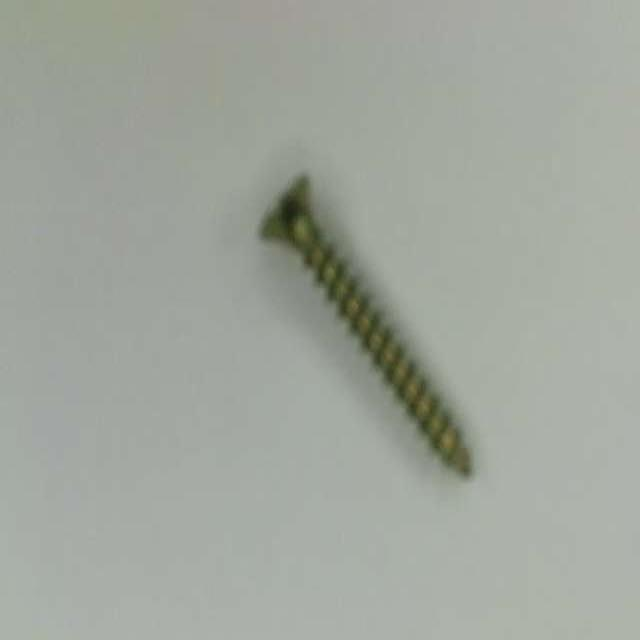Parafuso: (261, 176, 470, 475)
